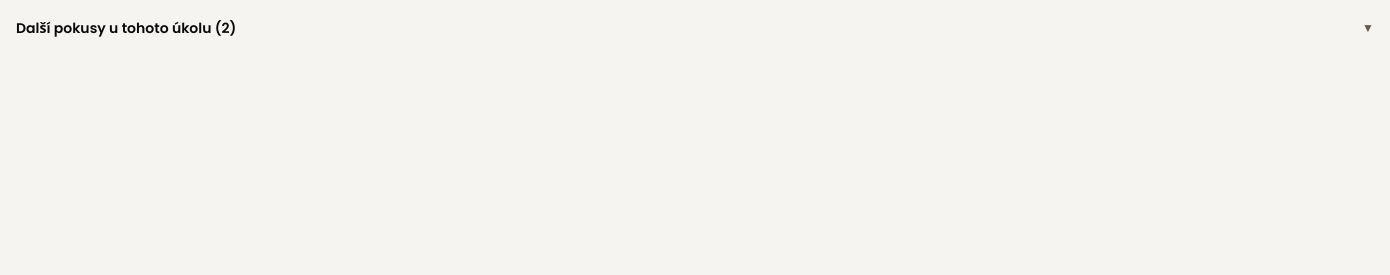
Scenario: PreviousAttempts › lists the other attempts with their grade and comment
Click the text "Další pokusy u tohoto úkolu (2)" at (126, 28), box [16,18,236,38]
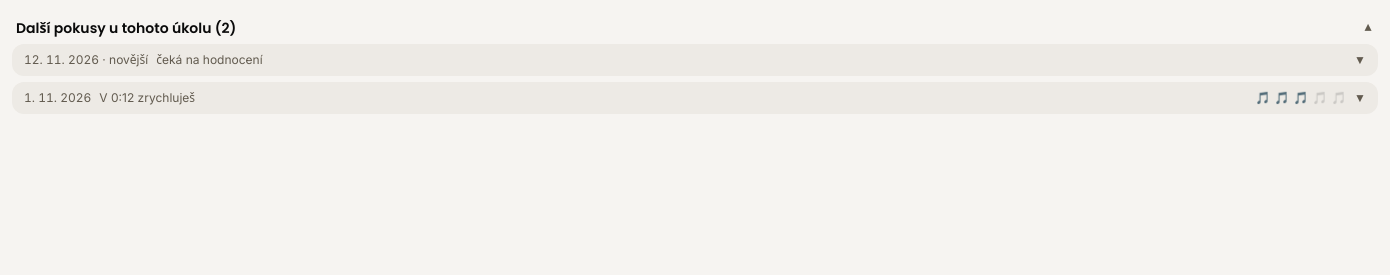
Expected: the text "12. 11. 2026 · novější" is shown, [24,52,148,68]
Expected: the text "čeká na hodnocení" is shown, [156,52,263,67]
Expected: the picture named "Hodnocení 3 z 5" is shown, [1255,90,1346,106]
Click the text "V 0:12 zrychluješ" at (147, 98), box [99,90,195,105]
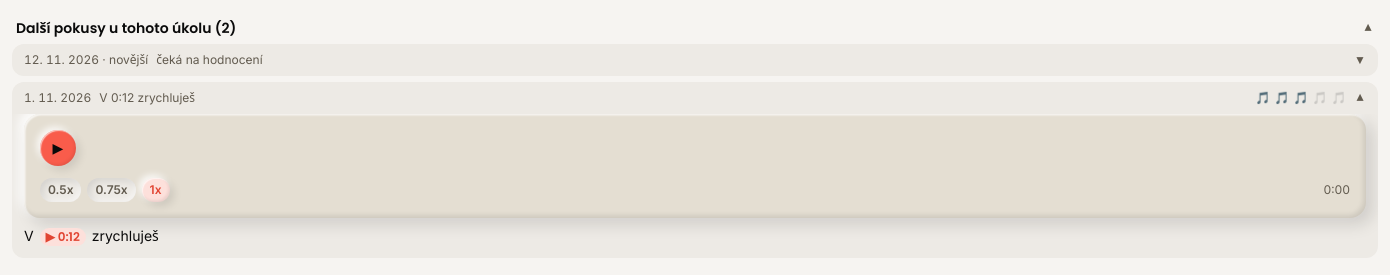
Expected: the button titled "Přehrát od 0:12" is shown, [40,228,86,246]
